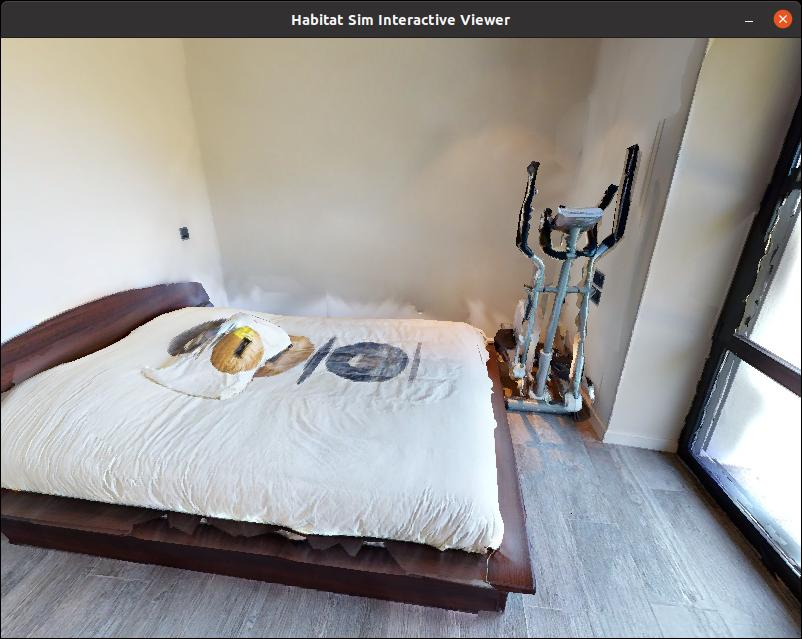bed: (0, 247, 559, 609)
